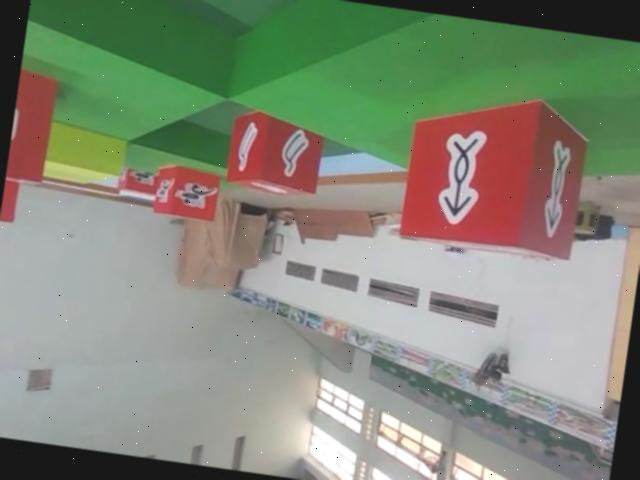R1: (151, 163, 223, 223)
R2 Fake: (0, 171, 24, 225)
R2 Real: (395, 86, 591, 268), (228, 108, 328, 202), (5, 69, 64, 189)
